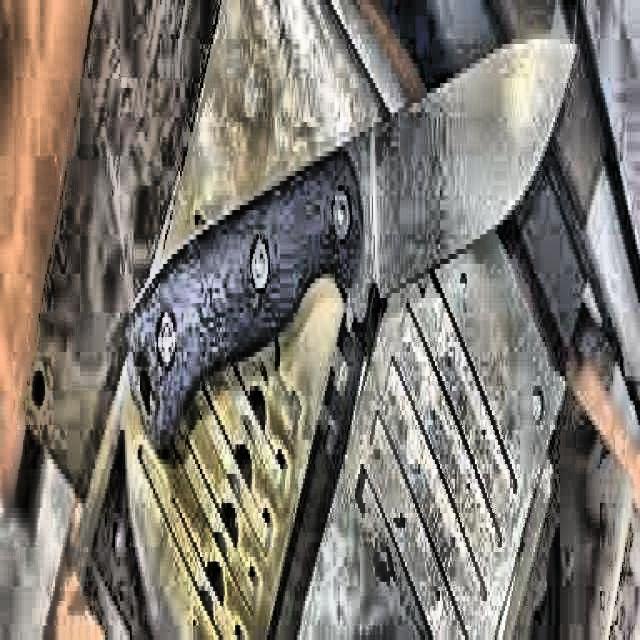knife: (127, 28, 580, 464)
